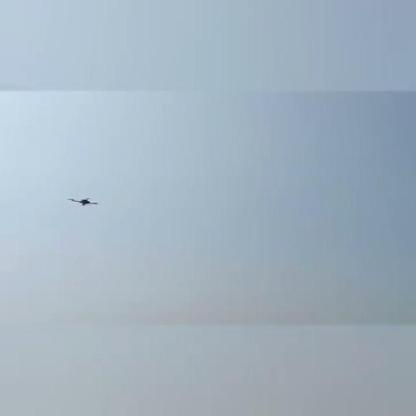drone: (67, 196, 101, 209)
